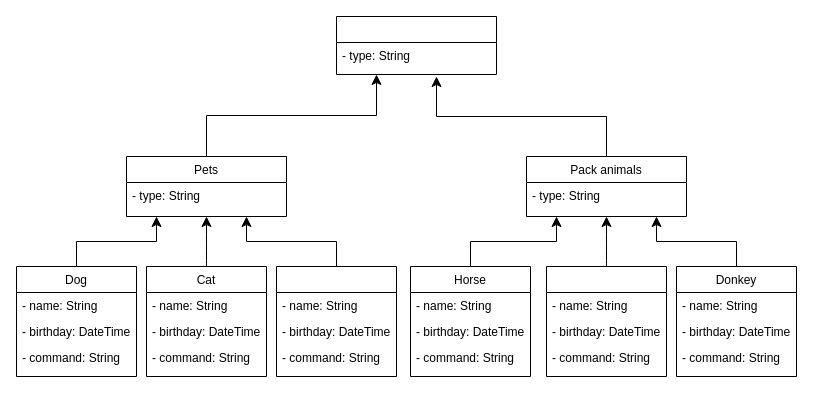
Image size: 813x393. Some labels were removed from this diagram. Each missing label, with the box of its shape:
Camel: (546, 266, 666, 376)
Hamster: (276, 266, 396, 376)
Животные: (336, 16, 496, 74)
